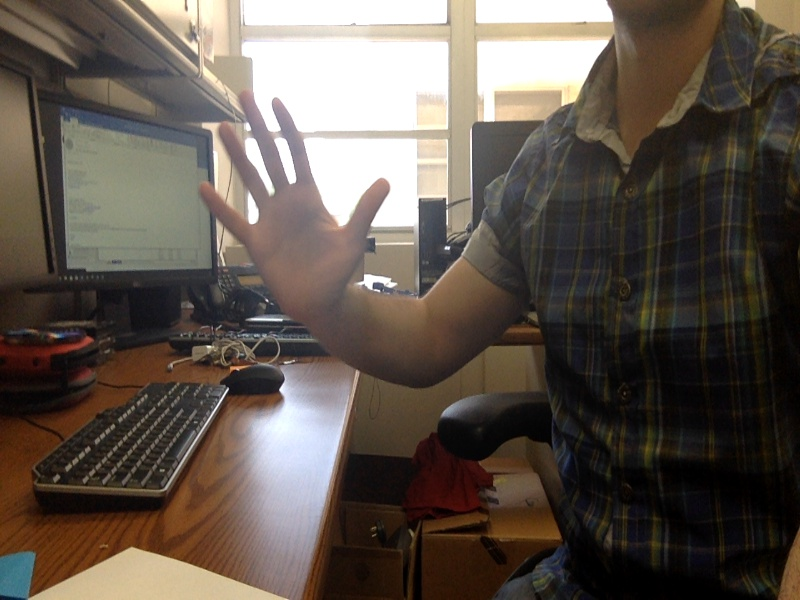5-hand: (201, 90, 389, 330)
